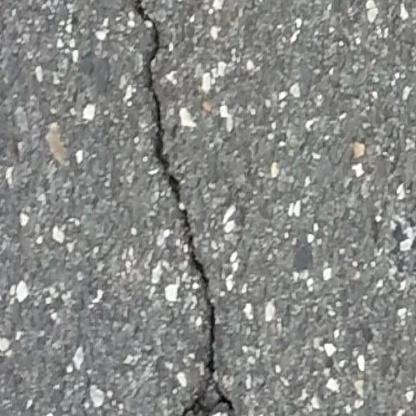Cracks: (125, 0, 244, 416)
